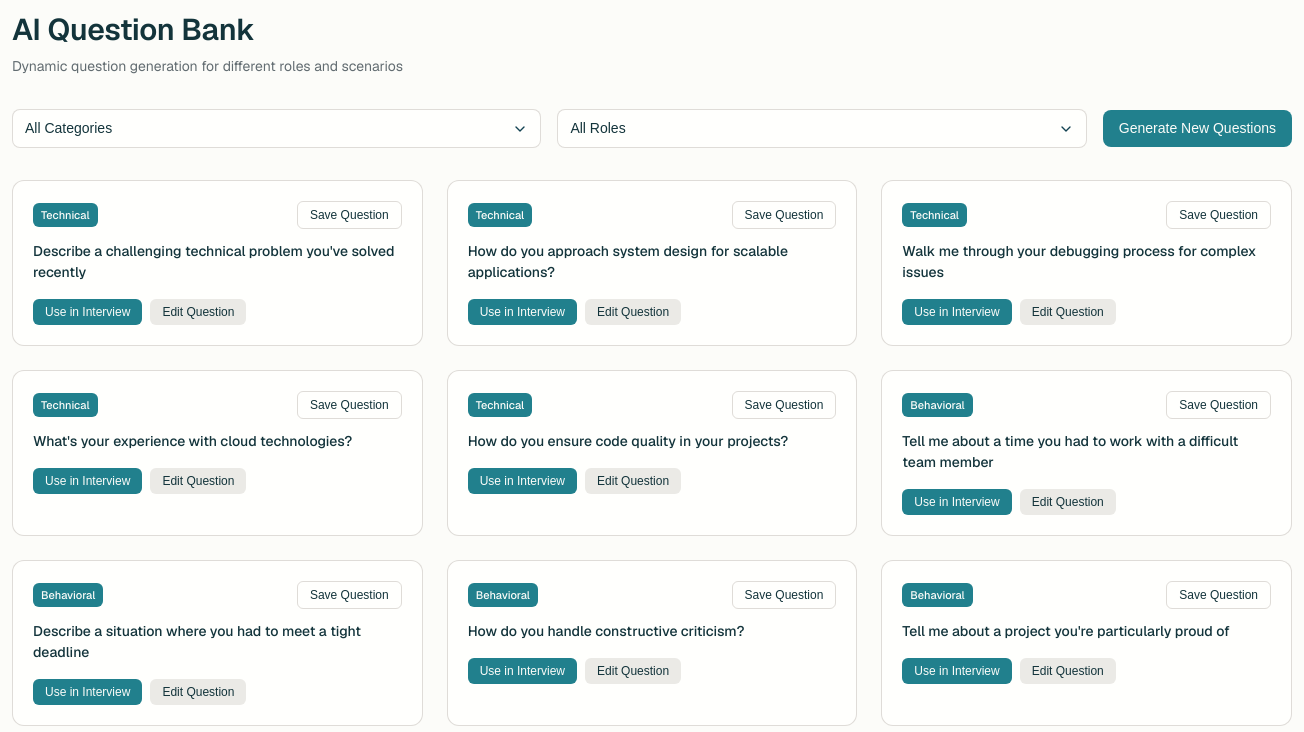
Scenario: QuestionBank › disables generate button during generation
Click the button "Generate New Questions". click: click(1197, 128)
box: [1103,110,1292,147]
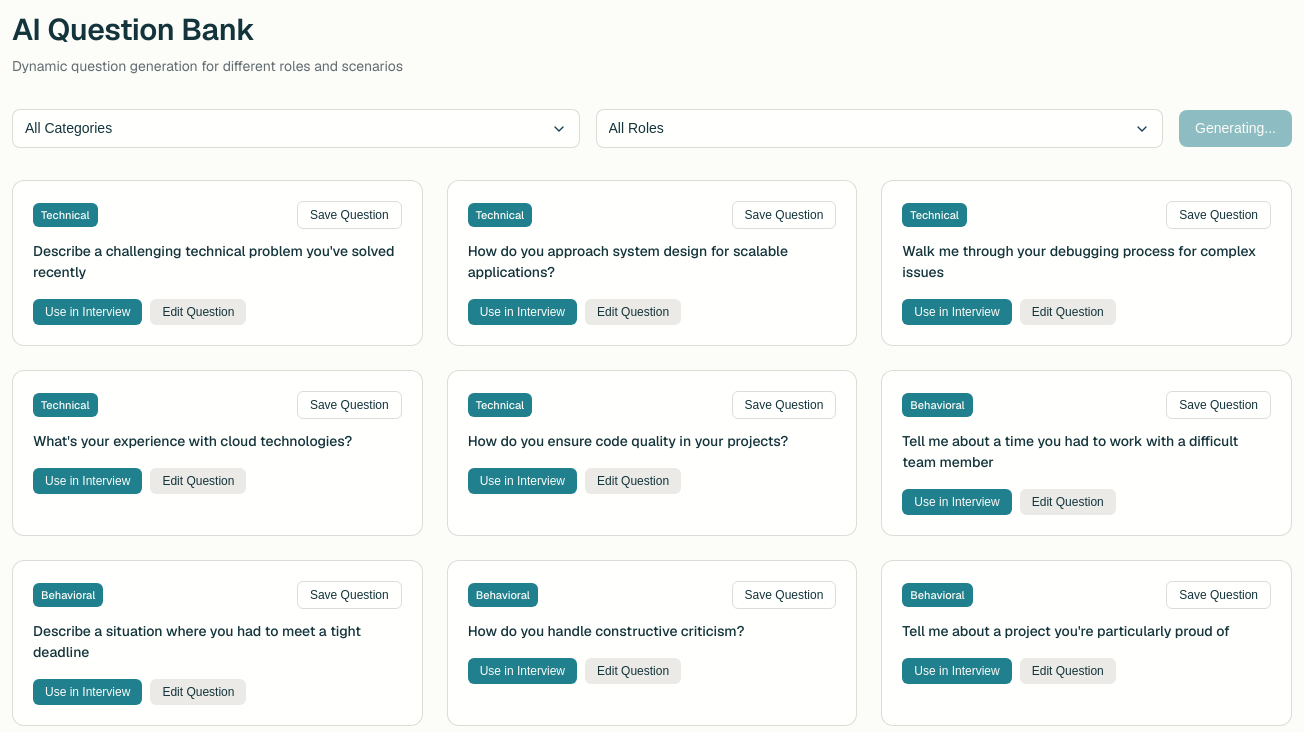
Expected: the button "Generate New Questions" is disabled, [1179,110,1292,147]
